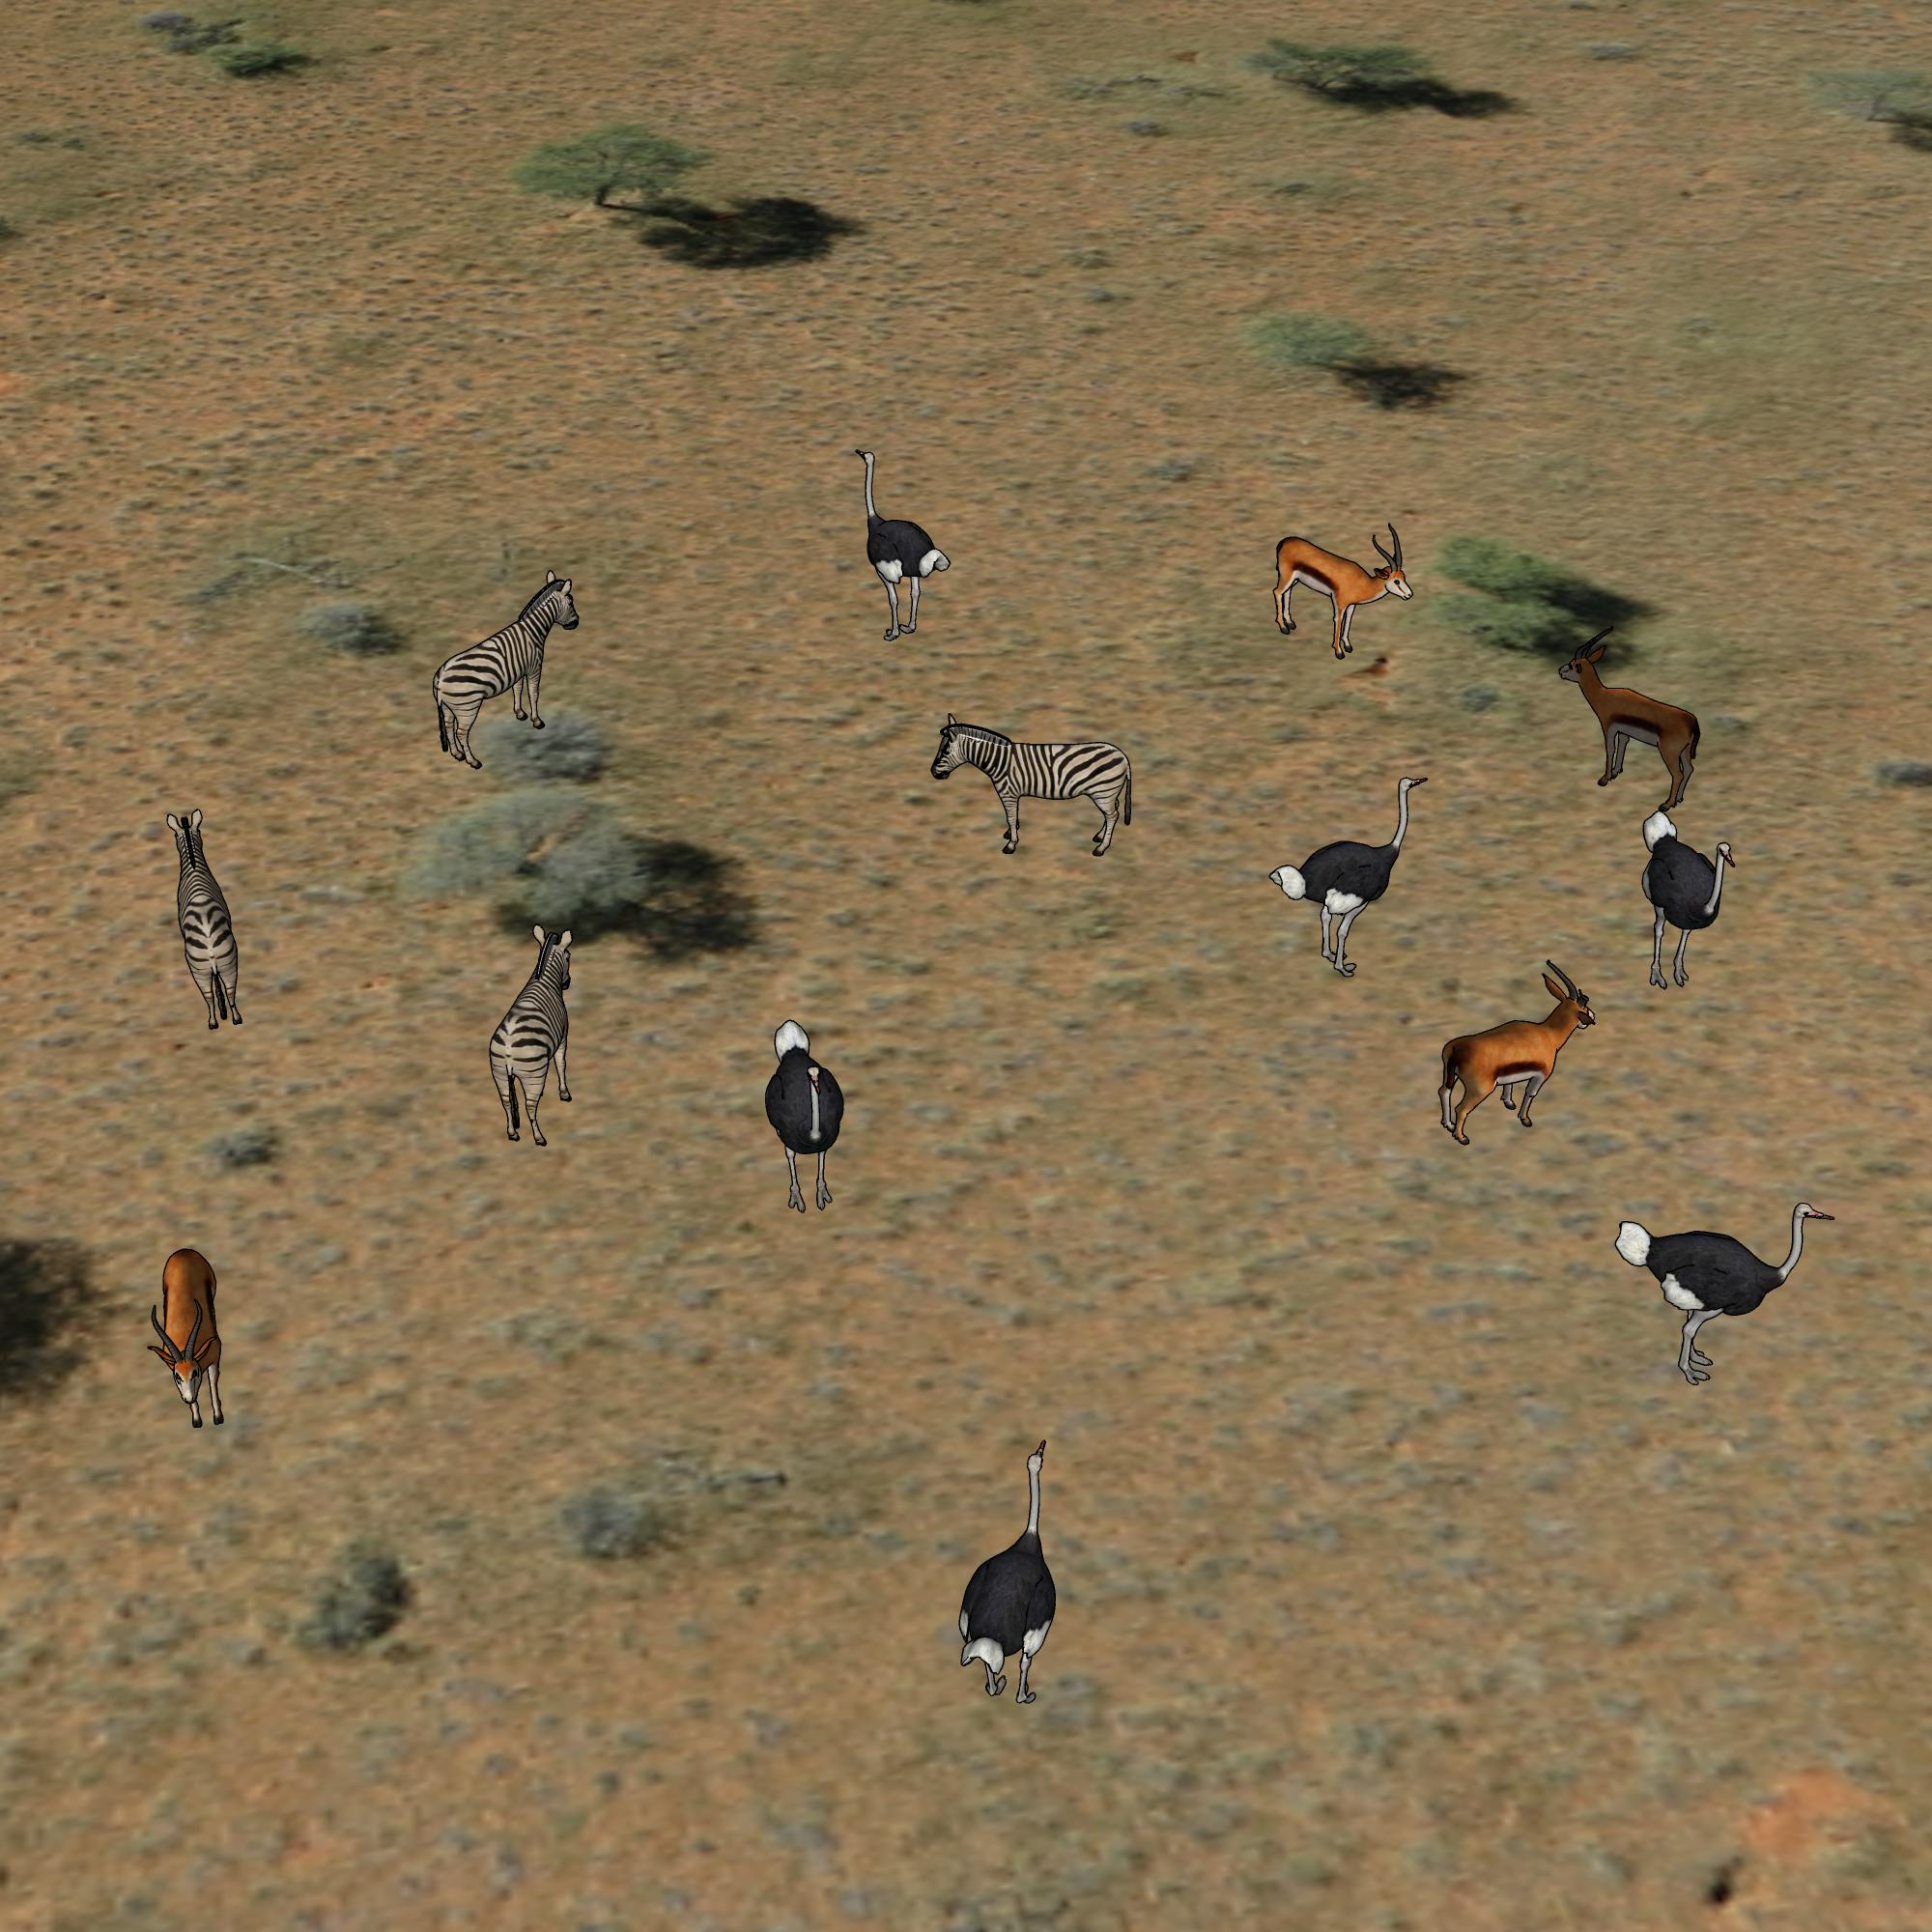ostrich: (1607, 1196, 1838, 1389), (1271, 771, 1442, 982), (956, 1433, 1071, 1712), (847, 436, 952, 657), (1620, 807, 1740, 995), (761, 1010, 852, 1224)
springbok: (1554, 629, 1709, 825), (138, 1229, 250, 1433), (1257, 520, 1411, 660)
zebra: (926, 705, 1142, 870), (425, 570, 590, 771), (484, 916, 593, 1148), (163, 805, 260, 1036)
